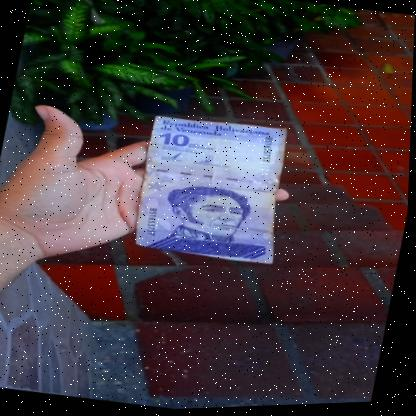ten-front-vef: (130, 110, 299, 271)
